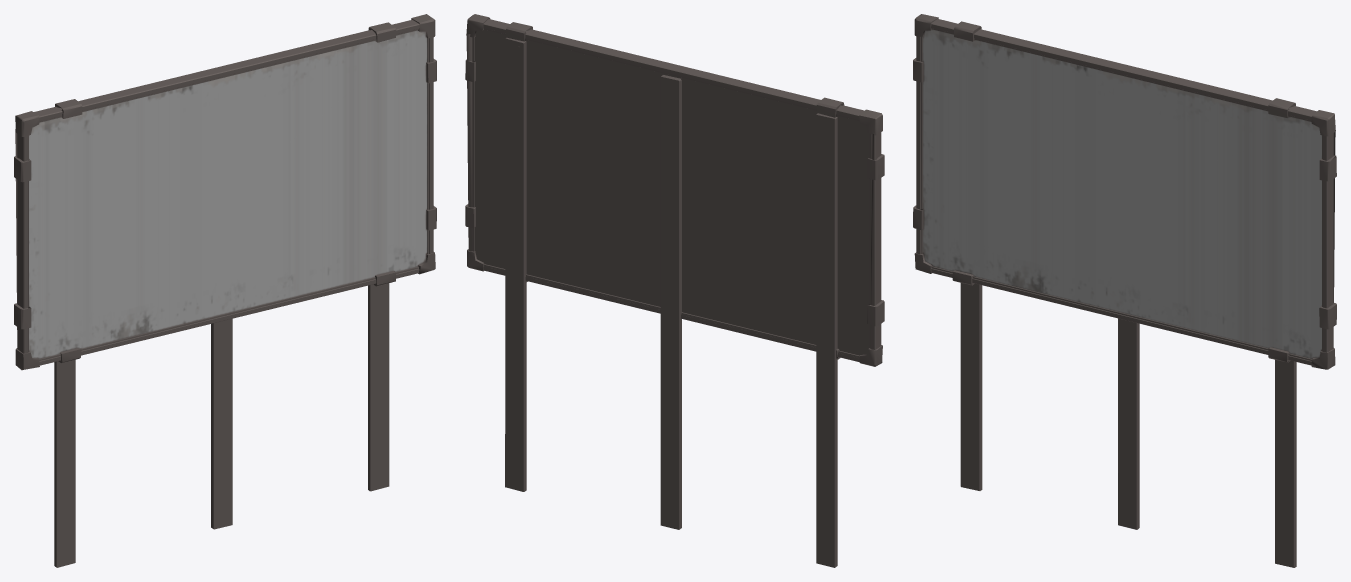
Rendered from Sign_Large_Metal_C.glb.
3 views of the same model, side by side, from view 1: azimuth 30°, elevation 25°; view 2: azimuth 150°, elevation 25°; view 3: azimuth 330°, elevation 25° (orthographic).
Parts seen in each view (by area): view 1: SM_MetalSign_Large; view 2: SM_MetalSign_Large; view 3: SM_MetalSign_Large.
Boxes of the visible parts, x1,y1,x2,y2 form: SM_MetalSign_Large: (14, 14, 436, 567); SM_MetalSign_Large: (465, 14, 884, 567); SM_MetalSign_Large: (913, 14, 1336, 567).
Bounding box in the file's own units: 5.01 × 5.34 × 0.2005.
1 material, 1 textured.
